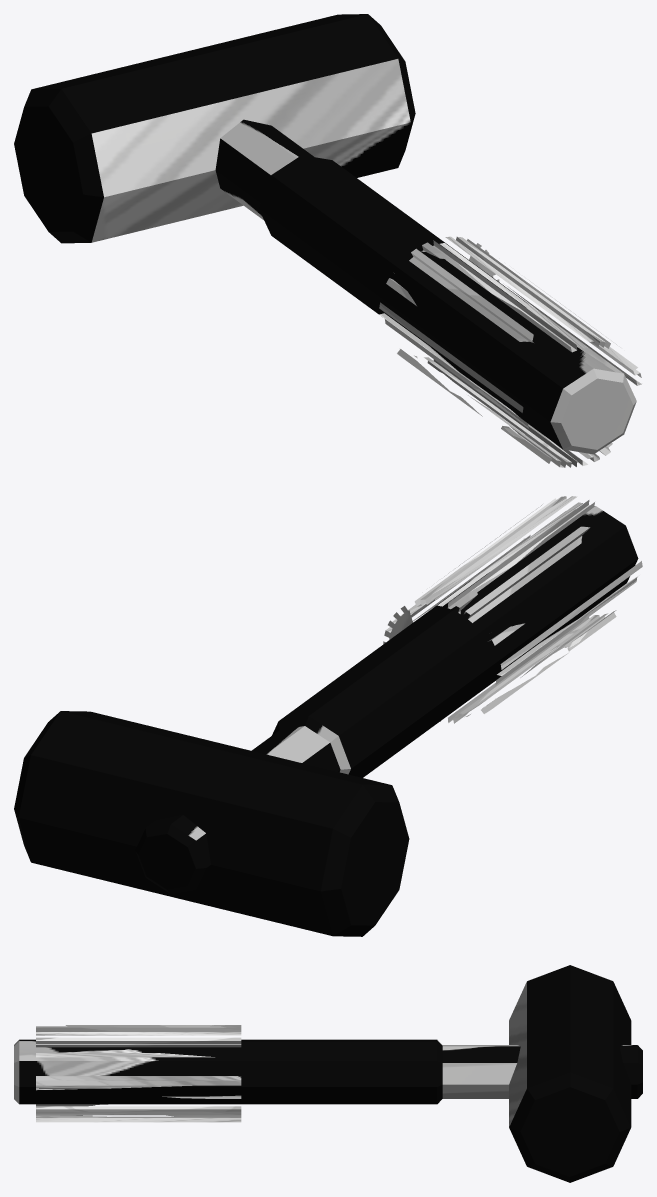
The model's file is hammer.fbx.
The picture shows the model from 3 angles, top to bottom: view 1: azimuth 30°, elevation 25°; view 2: azimuth 150°, elevation 25°; view 3: azimuth 270°, elevation 25°; orthographic projection. The views are drawn at different scales.
Visible parts, largest first — view 1: EVA_hammer; view 2: EVA_hammer; view 3: EVA_hammer.
Boxes of the visible parts, x1,y1,x2,y2 form: EVA_hammer: (14,14,641,467); EVA_hammer: (14,496,642,936); EVA_hammer: (14,965,642,1182).
Size of the model in its own units: 15.58 by 6.92 by 35.64.
